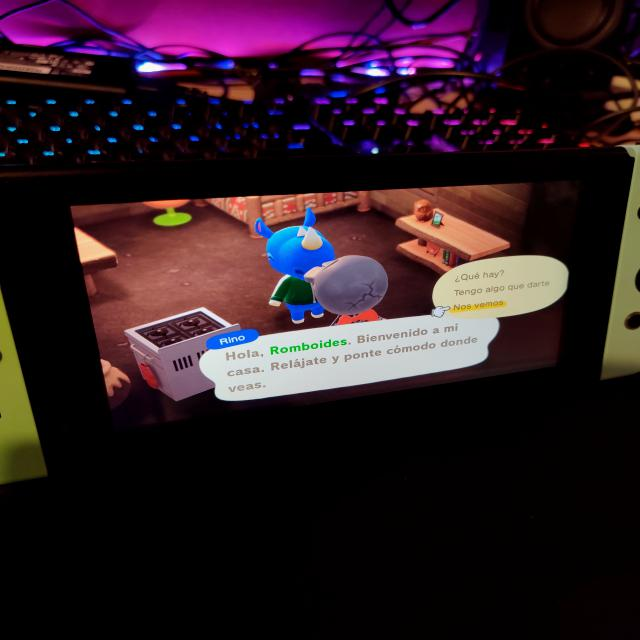text_bubble: (195, 311, 504, 403), (431, 254, 571, 320)
